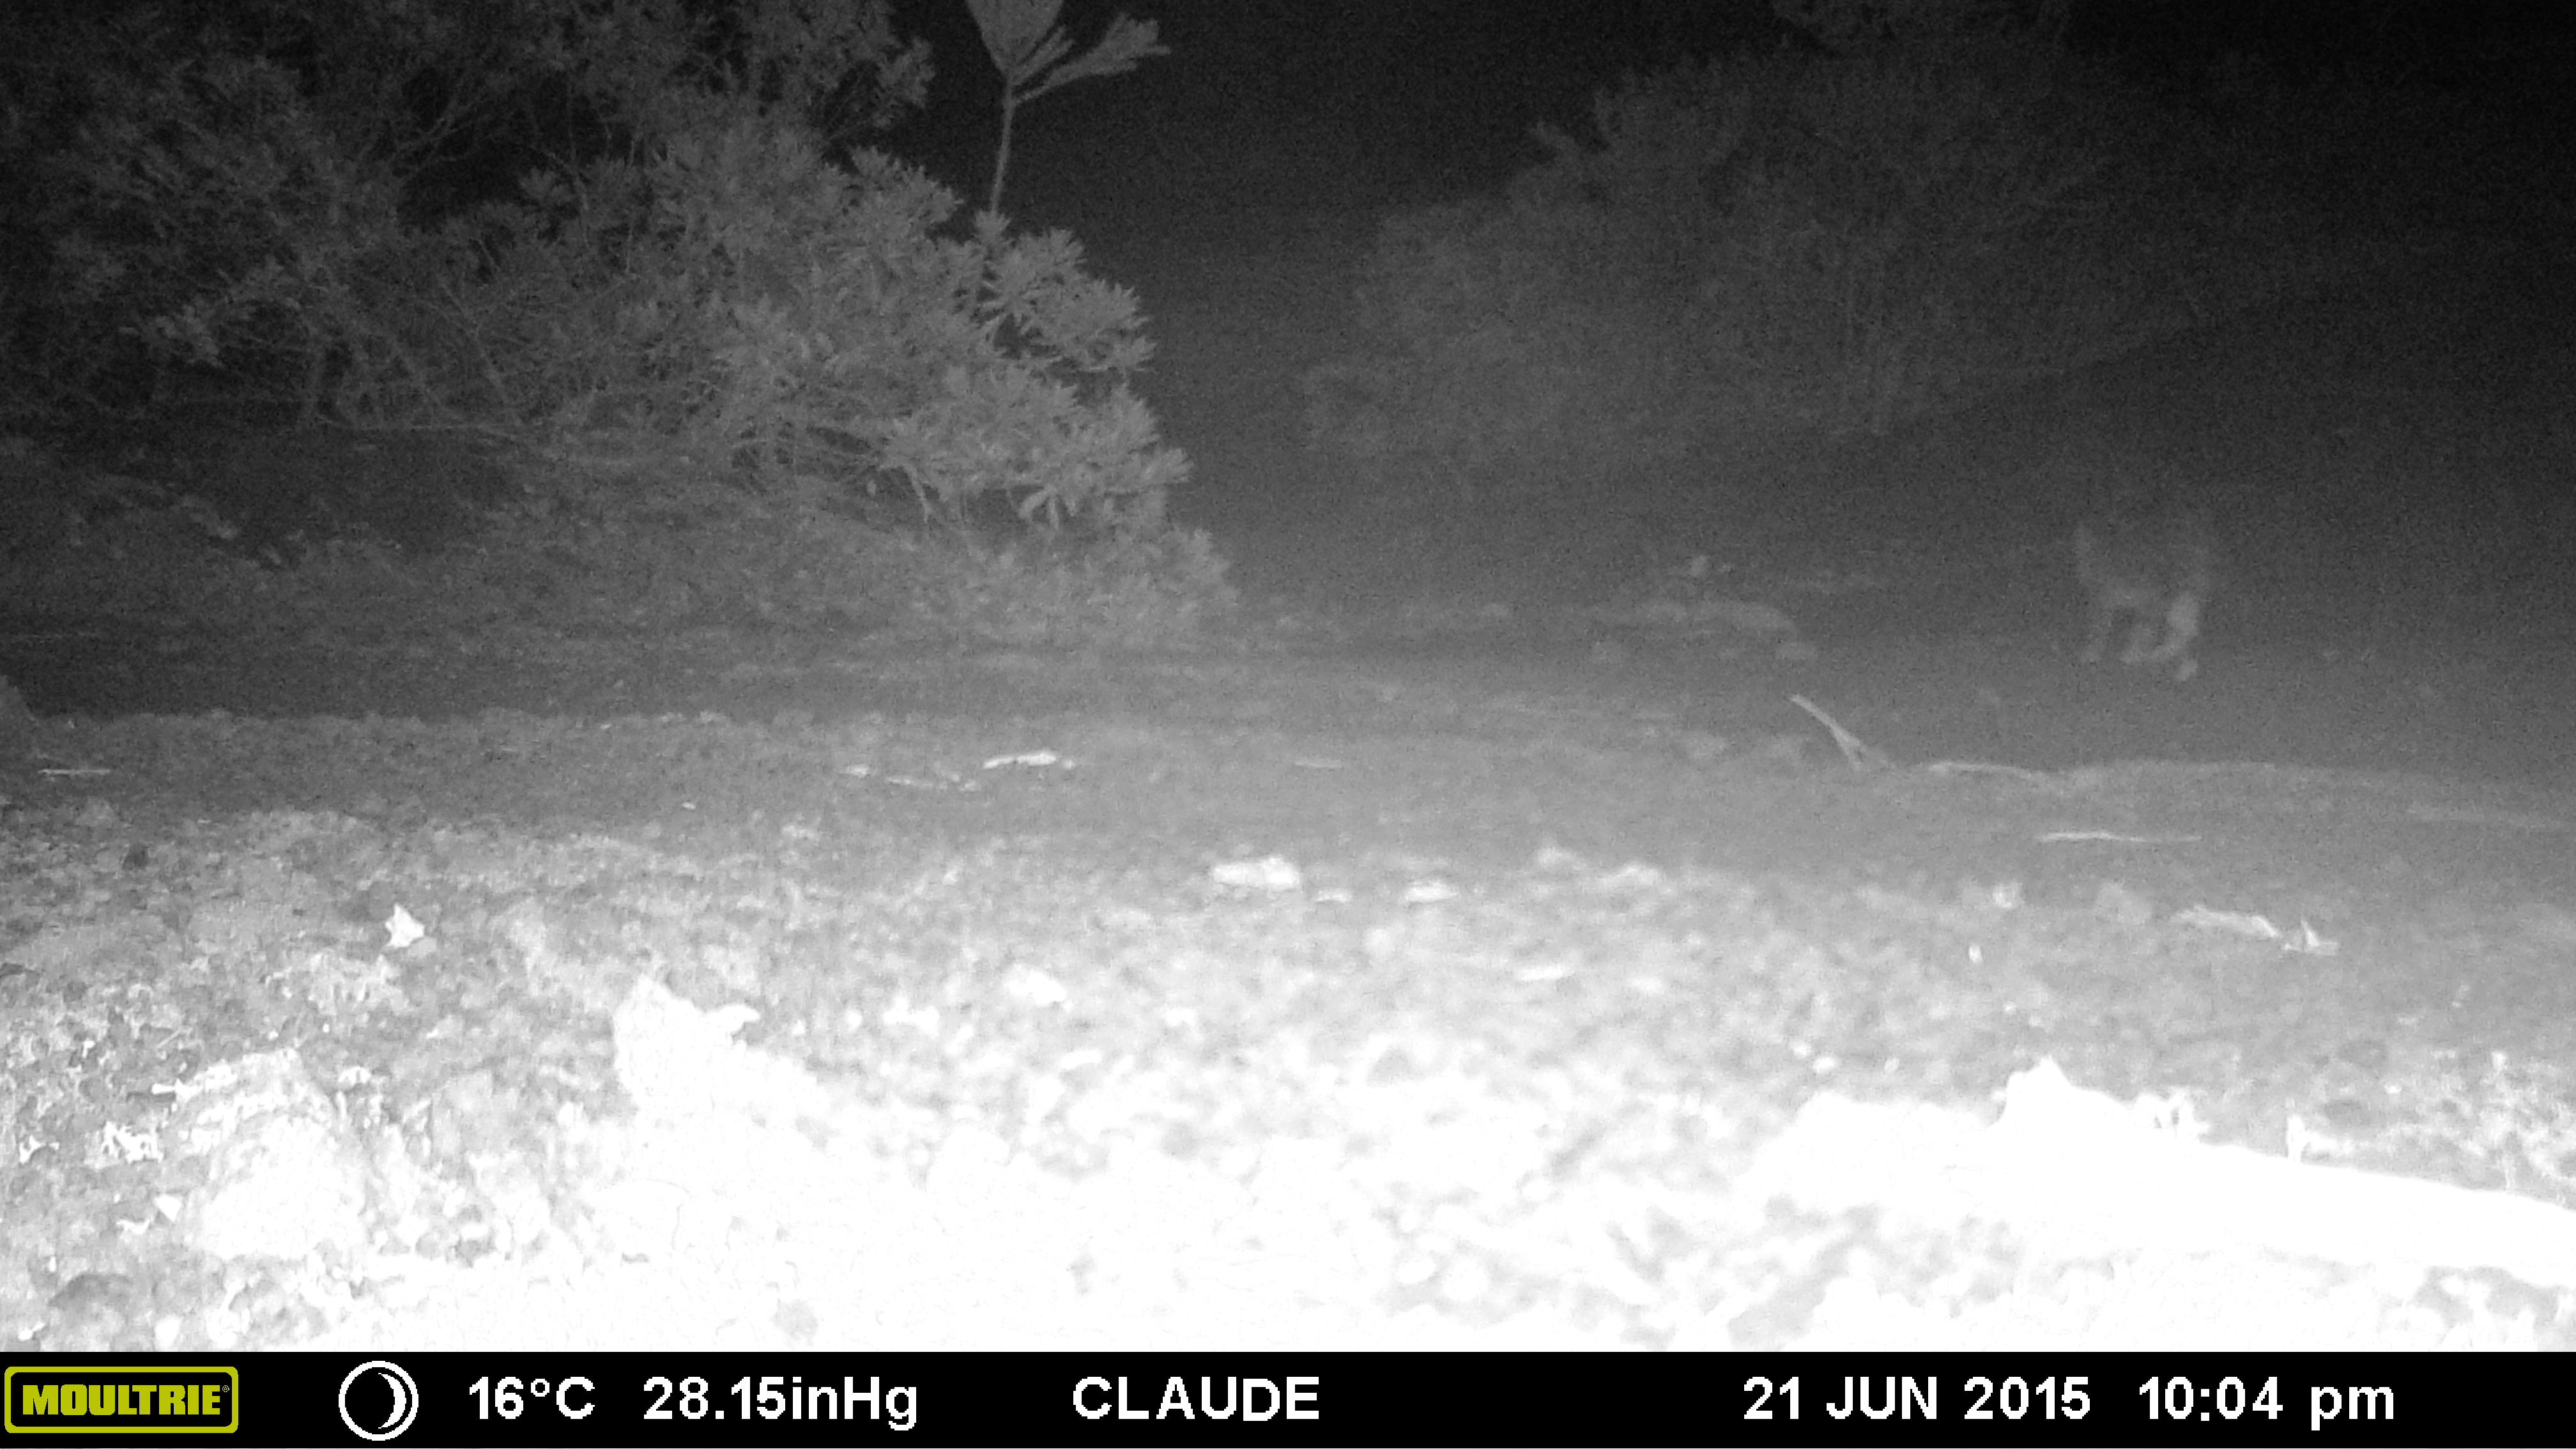cat: (2024, 483, 2231, 692)
